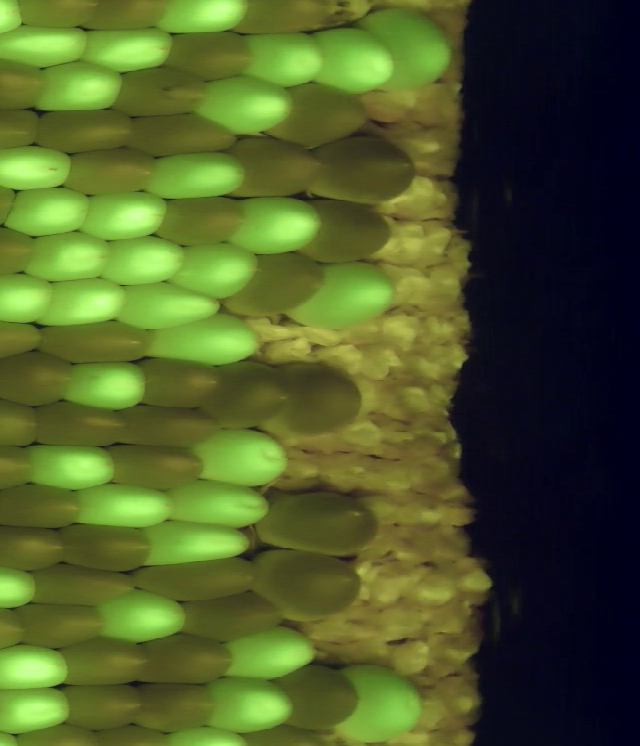fluorescent: (282, 259, 405, 333), (354, 4, 455, 91), (328, 659, 427, 746), (301, 20, 397, 99), (139, 311, 268, 369), (187, 423, 295, 492), (215, 621, 324, 684), (24, 54, 131, 117), (196, 673, 302, 736), (225, 193, 326, 259), (190, 73, 295, 136), (110, 279, 228, 335), (164, 241, 265, 302), (134, 518, 251, 569), (63, 480, 180, 531), (159, 479, 275, 530), (89, 586, 189, 645), (141, 150, 251, 203), (73, 188, 178, 242), (0, 182, 95, 241), (238, 28, 328, 90), (19, 440, 121, 494), (17, 228, 115, 283), (58, 359, 154, 414), (99, 232, 190, 289), (33, 277, 129, 331), (74, 25, 175, 75), (0, 679, 78, 735), (0, 23, 94, 69), (0, 141, 80, 194), (0, 642, 74, 698), (154, 1, 257, 41), (0, 271, 59, 327), (163, 722, 261, 746)
nonfluorescent: (248, 544, 368, 628), (257, 482, 385, 560), (304, 130, 423, 209), (265, 357, 370, 438), (218, 249, 327, 320), (255, 83, 375, 147), (222, 132, 325, 204), (126, 553, 265, 606), (196, 357, 295, 429), (295, 200, 397, 268), (271, 661, 361, 738), (121, 108, 239, 165), (35, 316, 155, 371), (133, 633, 239, 691), (55, 142, 162, 199), (108, 402, 228, 452), (106, 62, 209, 120), (103, 438, 209, 494), (57, 633, 157, 692), (12, 598, 113, 656), (130, 354, 228, 413), (153, 189, 249, 249), (157, 27, 256, 85), (27, 104, 135, 157), (176, 589, 286, 641), (27, 559, 137, 609), (134, 678, 221, 739), (55, 521, 161, 571), (27, 399, 132, 449), (54, 679, 146, 731), (0, 348, 77, 409), (0, 482, 89, 534), (234, 1, 343, 42), (0, 522, 72, 575), (75, 1, 170, 35), (0, 50, 48, 116), (11, 1, 100, 32), (0, 395, 47, 452), (0, 312, 49, 363), (0, 100, 43, 157), (0, 222, 39, 281), (0, 439, 36, 492), (0, 602, 33, 659)
